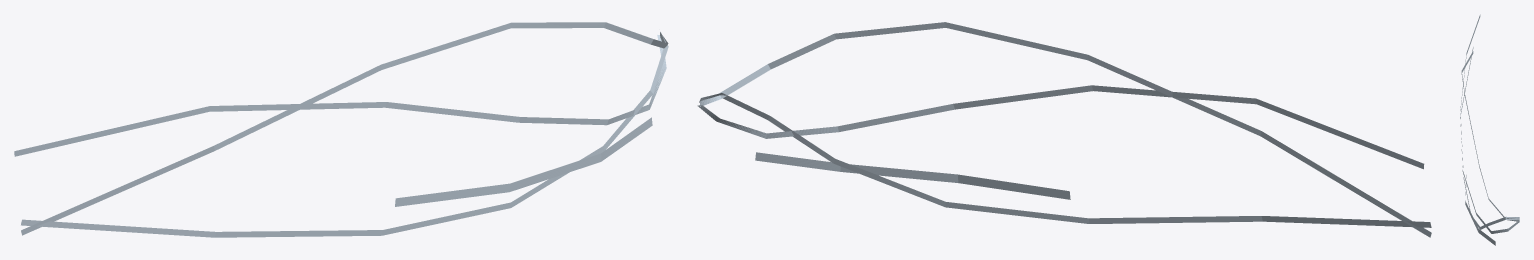
The model's file is 2073_Whale_WhaleWaterContours.fbx.
The picture shows the model from 3 angles, left to right: view 1: azimuth 30°, elevation 25°; view 2: azimuth 150°, elevation 25°; view 3: azimuth 270°, elevation 25°; orthographic projection. The views are drawn at different scales.
Parts seen in each view (by area): view 1: PART_WhaleCurvedSurfaceCurrent_1, PART_WhaleCurvedSurfaceCurrent_0, PART_WhaleCurvedSurfaceCurrent_2, PART_WhaleReadableJawLine; view 2: PART_WhaleCurvedSurfaceCurrent_0, PART_WhaleCurvedSurfaceCurrent_1, PART_WhaleCurvedSurfaceCurrent_2, PART_WhaleReadableJawLine; view 3: PART_WhaleCurvedSurfaceCurrent_1, PART_WhaleCurvedSurfaceCurrent_2, PART_WhaleCurvedSurfaceCurrent_0, PART_WhaleReadableJawLine.
Boxes of the visible parts, x1,y1,x2,y2 form: PART_WhaleCurvedSurfaceCurrent_1: [14, 35, 666, 156]; PART_WhaleCurvedSurfaceCurrent_0: [21, 22, 668, 235]; PART_WhaleCurvedSurfaceCurrent_2: [21, 34, 668, 237]; PART_WhaleReadableJawLine: [395, 117, 652, 206]; PART_WhaleCurvedSurfaceCurrent_0: [700, 22, 1431, 237]; PART_WhaleCurvedSurfaceCurrent_1: [697, 85, 1424, 169]; PART_WhaleCurvedSurfaceCurrent_2: [699, 93, 1431, 227]; PART_WhaleReadableJawLine: [755, 152, 1070, 199]; PART_WhaleCurvedSurfaceCurrent_1: [1460, 14, 1519, 233]; PART_WhaleCurvedSurfaceCurrent_2: [1460, 47, 1519, 229]; PART_WhaleCurvedSurfaceCurrent_0: [1461, 51, 1519, 221]; PART_WhaleReadableJawLine: [1465, 175, 1495, 245].
Size of the model in its own units: 303 by 78.1 by 45.39.
